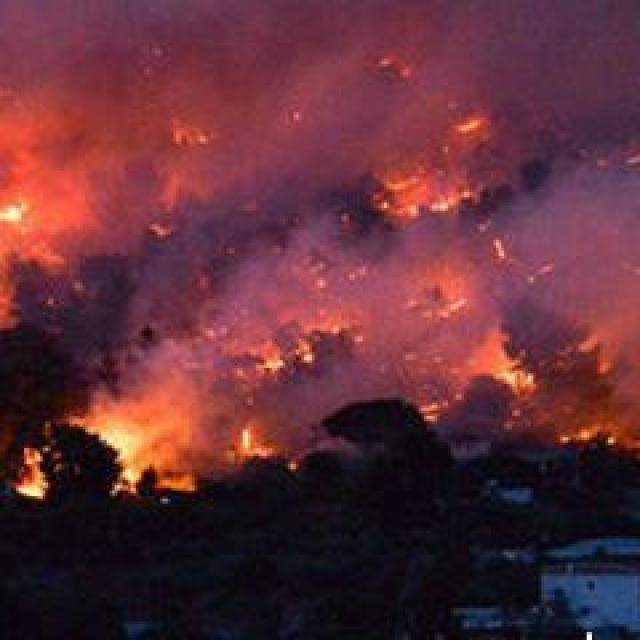Fire: (5, 70, 640, 478)
